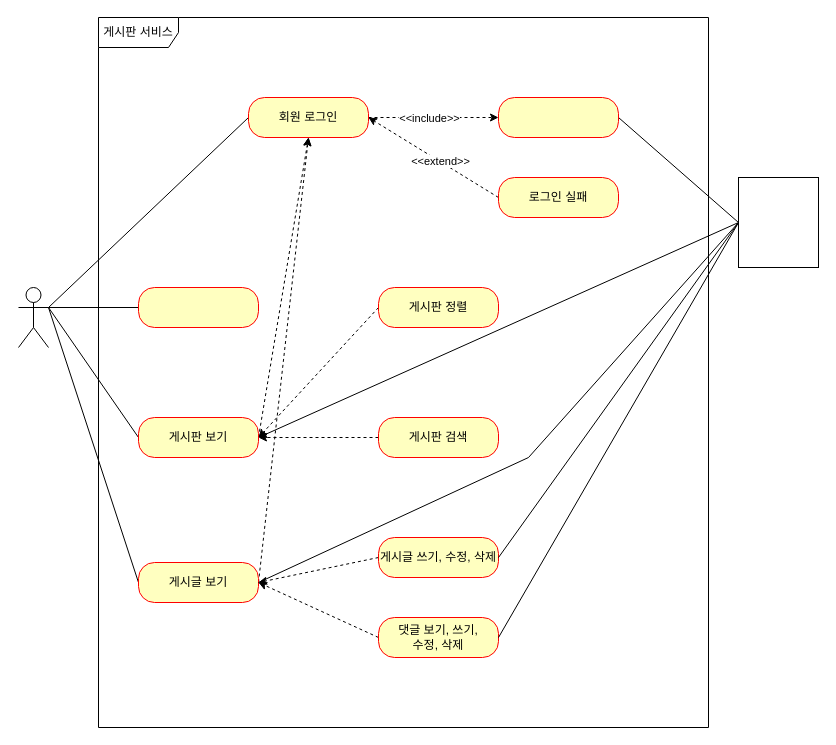
Image size: 836x745. Some labels were removed from this diagram. The centre of each missing label's shape, as x and y in pixels:
Data Base: [778,222]
이용자: [33,317]
인증: [558,117]
회원 가입: [198,307]
